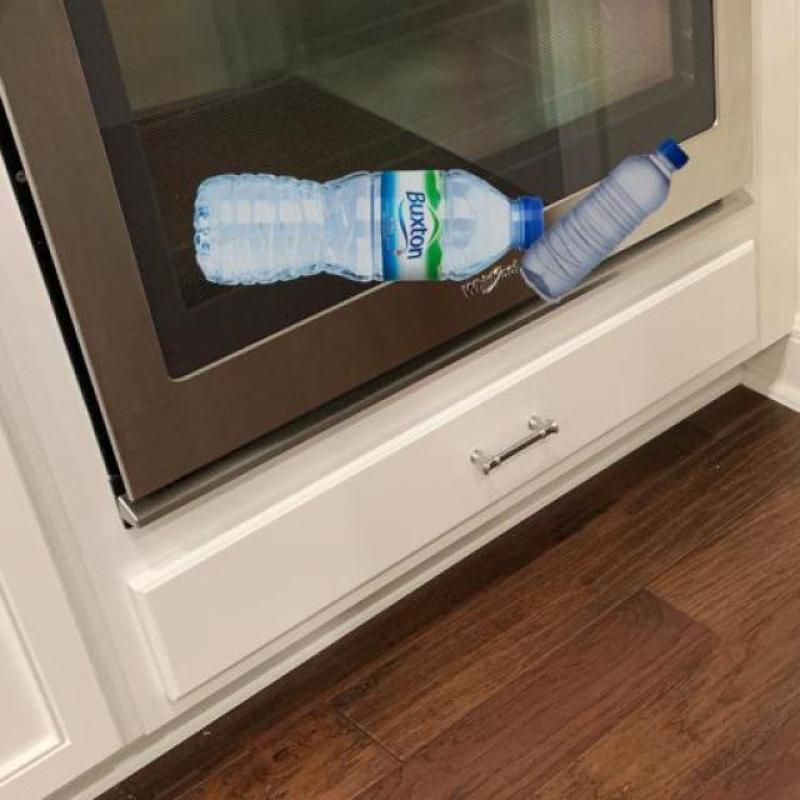botella: (194, 169, 544, 283), (521, 139, 691, 300)
